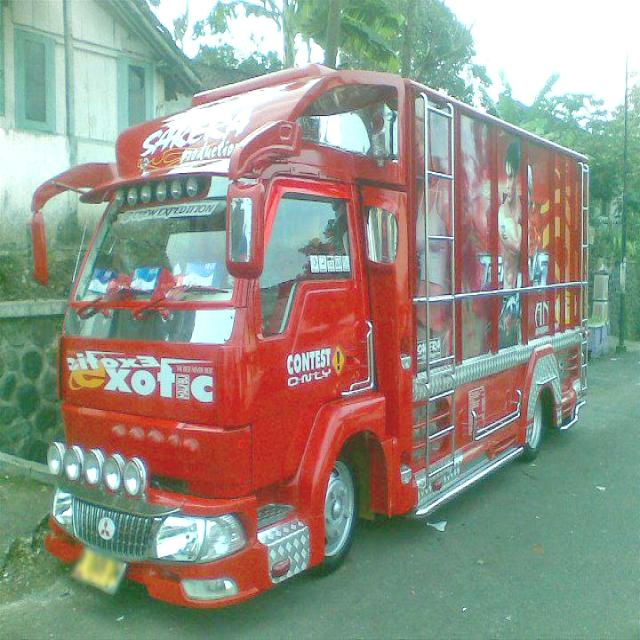truck: (23, 60, 591, 614)
